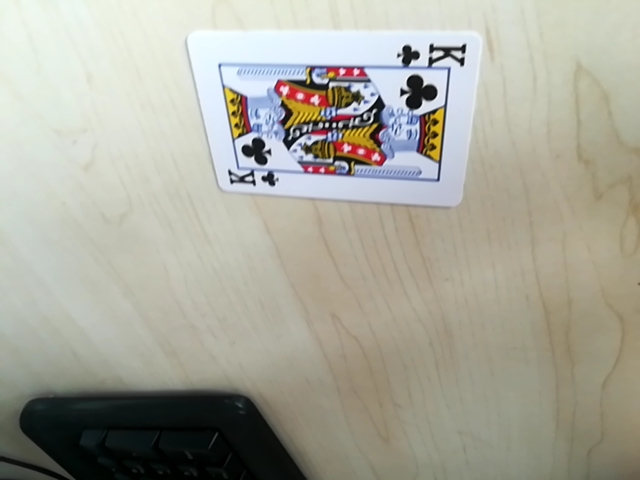mh k: (397, 36, 469, 69), (222, 166, 279, 191)
